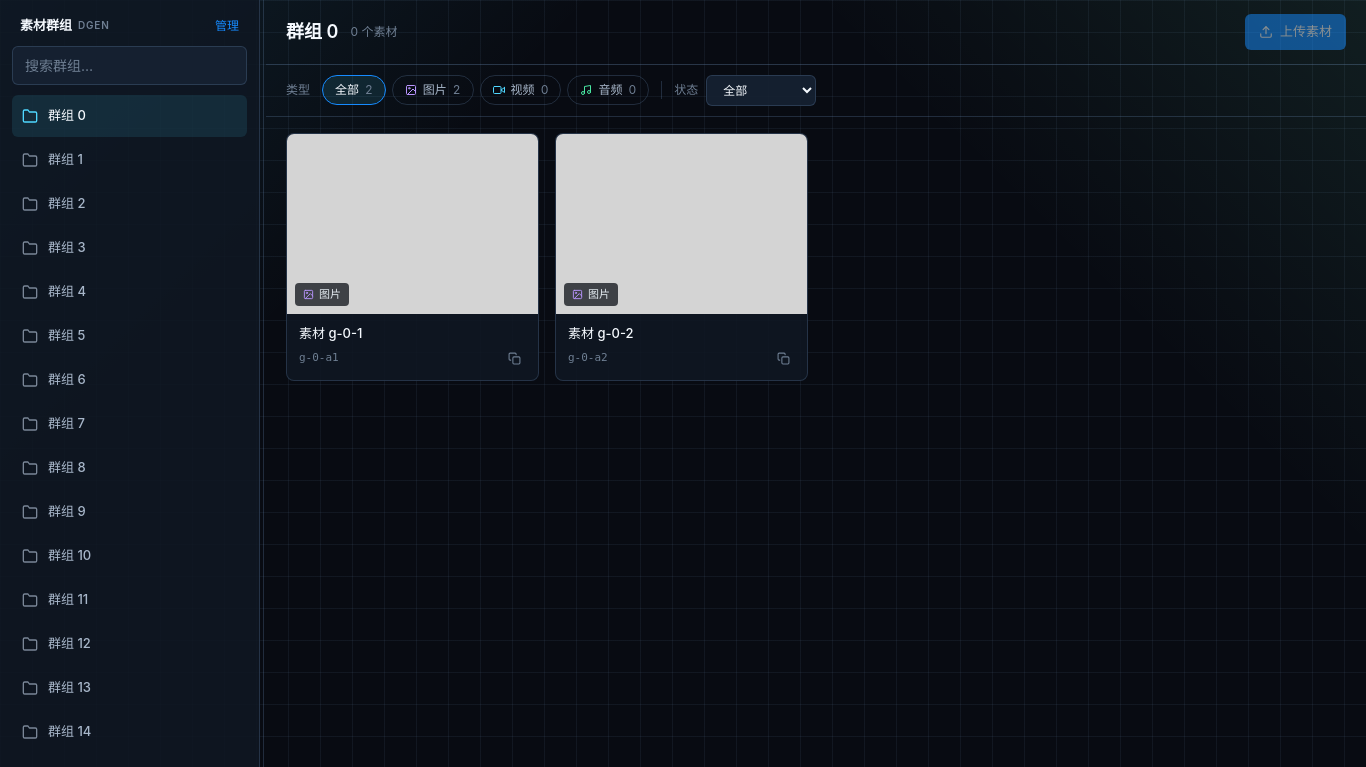
server-side group search (>1000 groups) › clearing the query restores the (capped) full list
The width and height of the screenshot is (1366, 767).
Expected: the element with test id "group-row-g-0" is shown, top-left (12, 94), bottom-right (247, 136)
Type "1234" into the search field labelled "搜索群组". click: (130, 65)
box: top-left (12, 46), bottom-right (247, 84)
Wait 320 ms
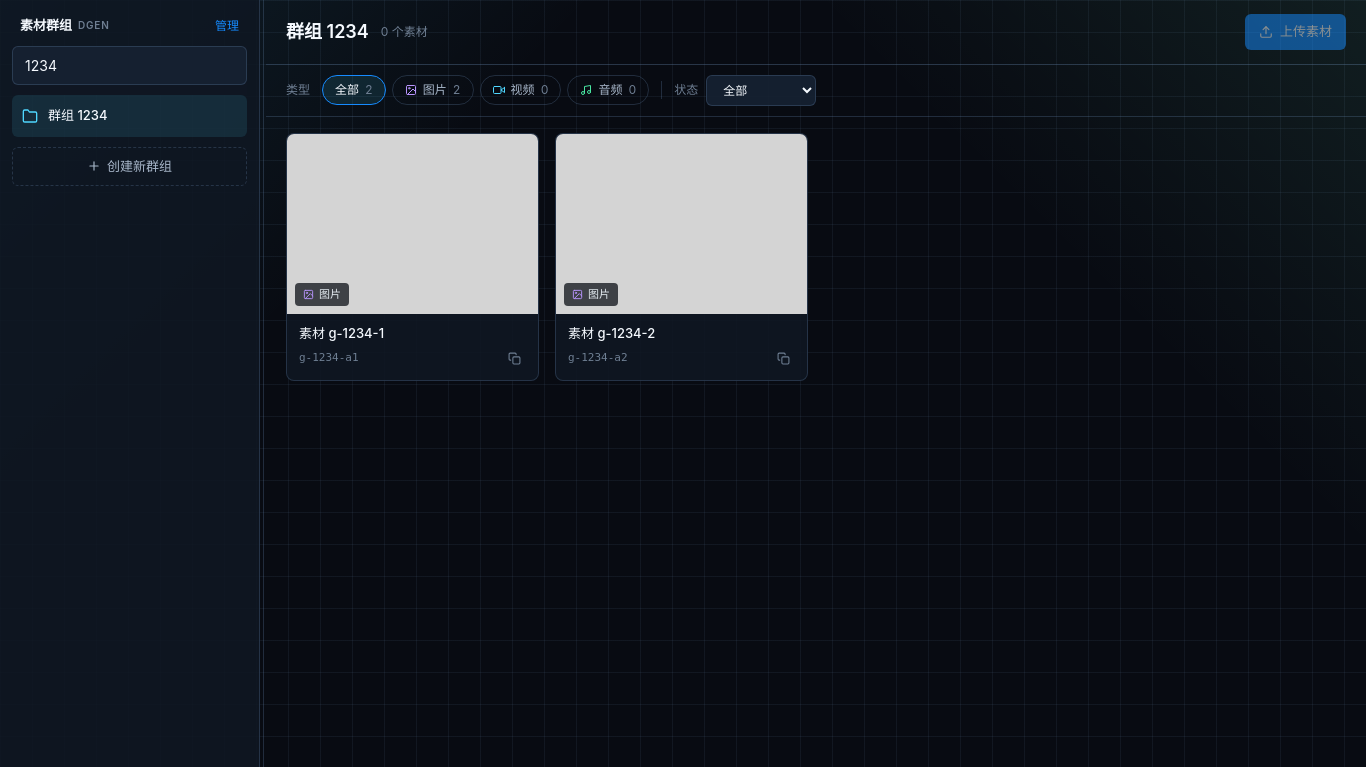
Now the element with test id "group-row-g-1234" is shown, box top-left (12, 94), bottom-right (247, 136)
Clear the search field named "搜索群组". click: (130, 65)
box: top-left (12, 46), bottom-right (247, 84)
Wait 320 ms
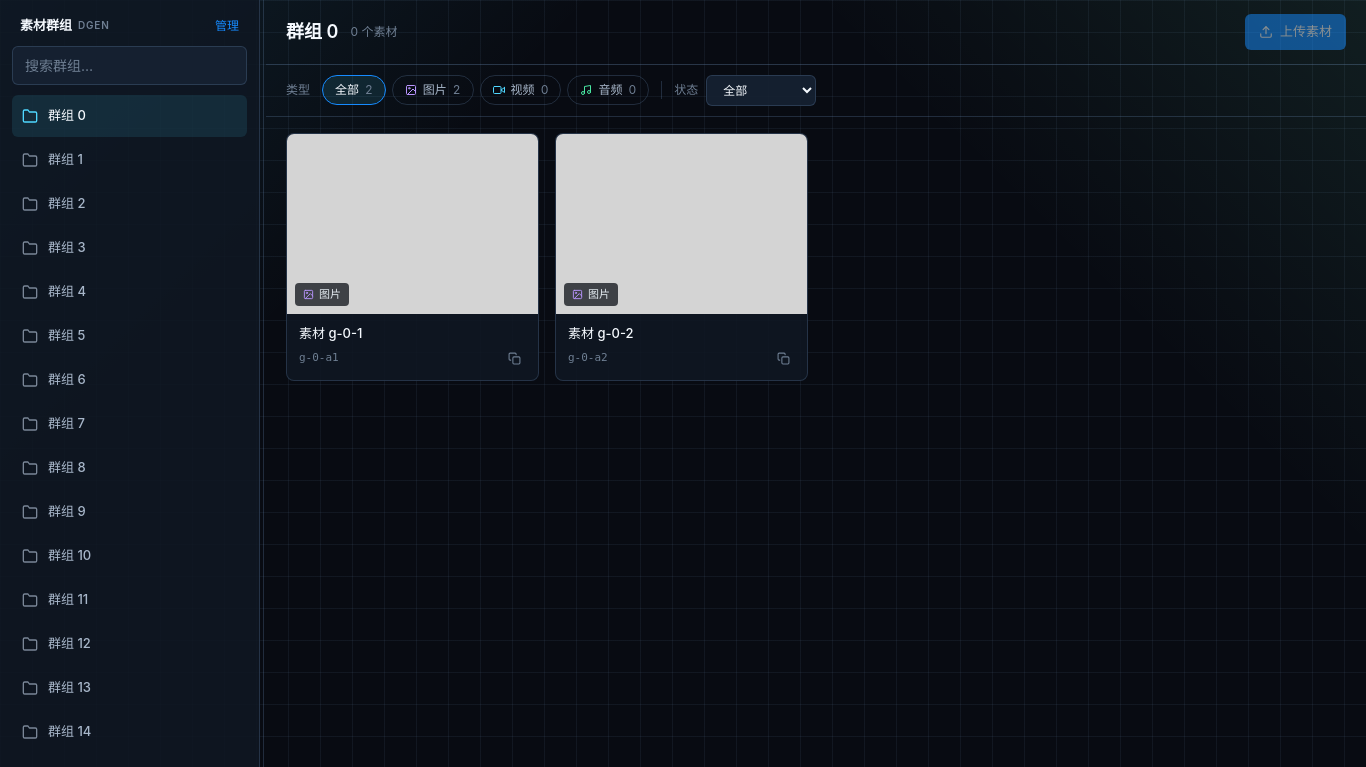
Now the element with test id "group-row-g-0" is shown, box top-left (12, 94), bottom-right (247, 136)
